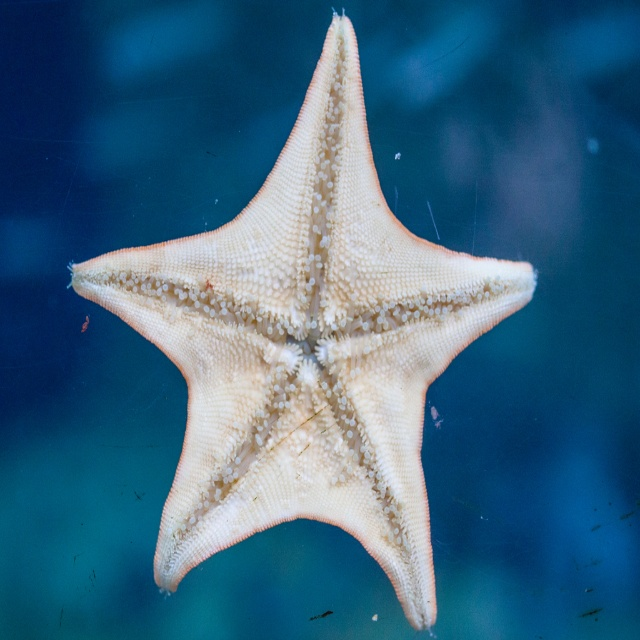Starfish: (66, 8, 539, 633)
